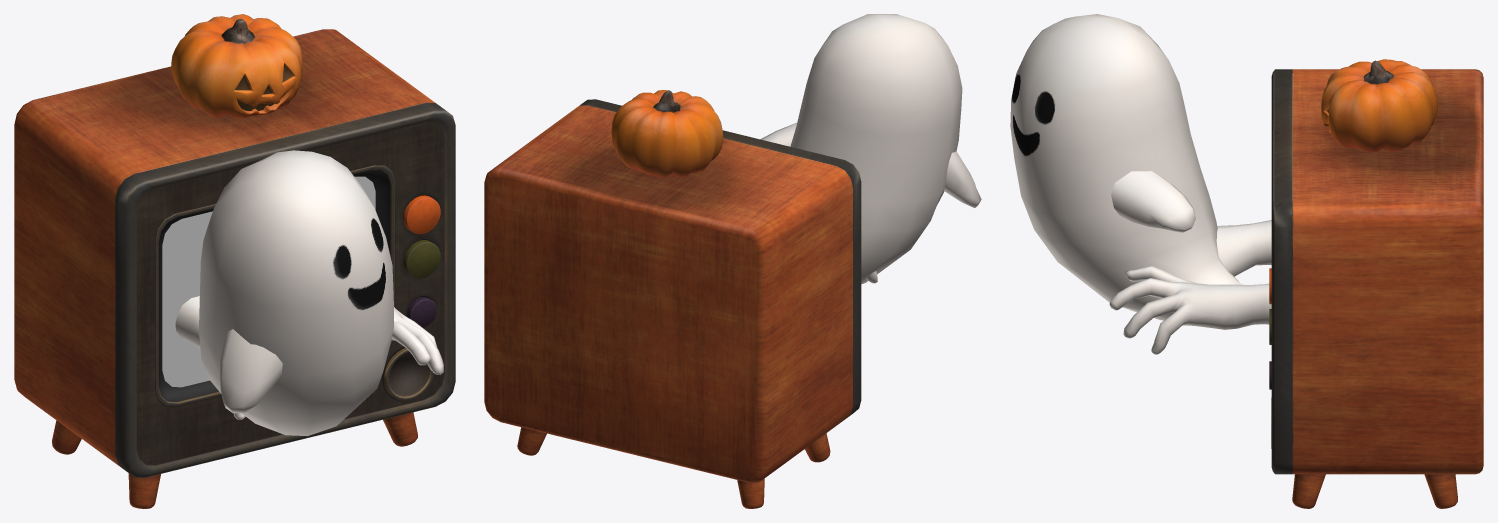
Rendered from CursedTV.fbx.
3 views of the same model, side by side, from view 1: azimuth 30°, elevation 25°; view 2: azimuth 150°, elevation 25°; view 3: azimuth 270°, elevation 25° (orthographic). The views are drawn at different scales.
Parts seen in each view (by area): view 1: CursedTV, Ghost, HalloweenPumpkin, TVScreen_01, Hand_L, Switch_01, Switch_02, Hand_R, Switch_03; view 2: CursedTV, Ghost, HalloweenPumpkin; view 3: CursedTV, Ghost, HalloweenPumpkin, Hand_L, Hand_R.
Part boxes in pixels (x1,y1,x2,y2): CursedTV: [14, 29, 455, 508]; Ghost: [199, 150, 393, 436]; HalloweenPumpkin: [171, 14, 302, 118]; TVScreen_01: [162, 176, 375, 387]; Hand_L: [391, 307, 443, 374]; Switch_01: [403, 195, 440, 234]; Switch_02: [403, 240, 440, 278]; Hand_R: [175, 296, 245, 419]; Switch_03: [407, 297, 436, 327]; CursedTV: [484, 99, 861, 508]; Ghost: [760, 14, 981, 284]; HalloweenPumpkin: [611, 90, 723, 177]; CursedTV: [1271, 69, 1483, 508]; Ghost: [1010, 14, 1244, 320]; HalloweenPumpkin: [1320, 59, 1437, 152]; Hand_L: [1109, 266, 1271, 354]; Hand_R: [1216, 220, 1271, 276].
Size of the model in its own units: 0.6888 by 0.8037 by 0.8815.
